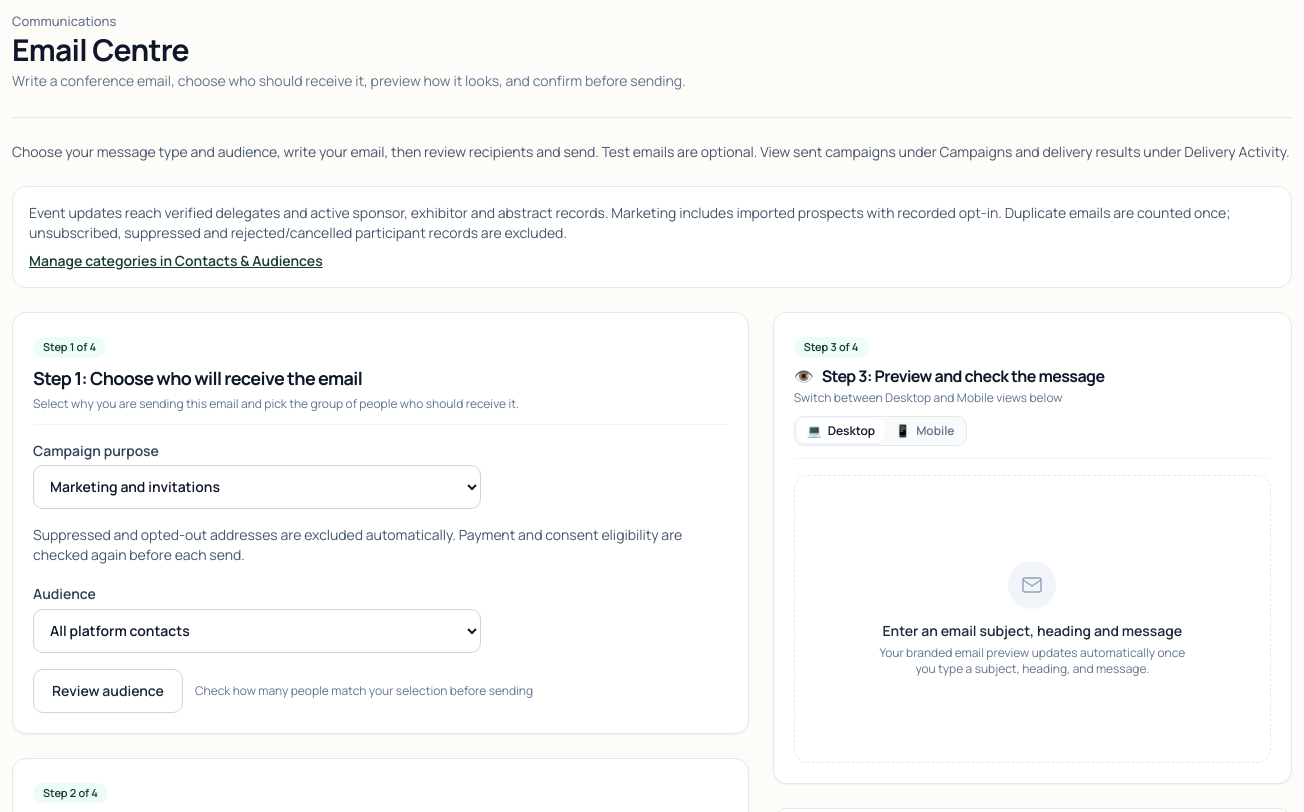
Communications Centre › restricts essential attendee updates to registered delegates and checks backend support
Select "Event update — existing conference participants" in the dropdown labelled "Campaign purpose" at (257,486), box [33,464,481,508]
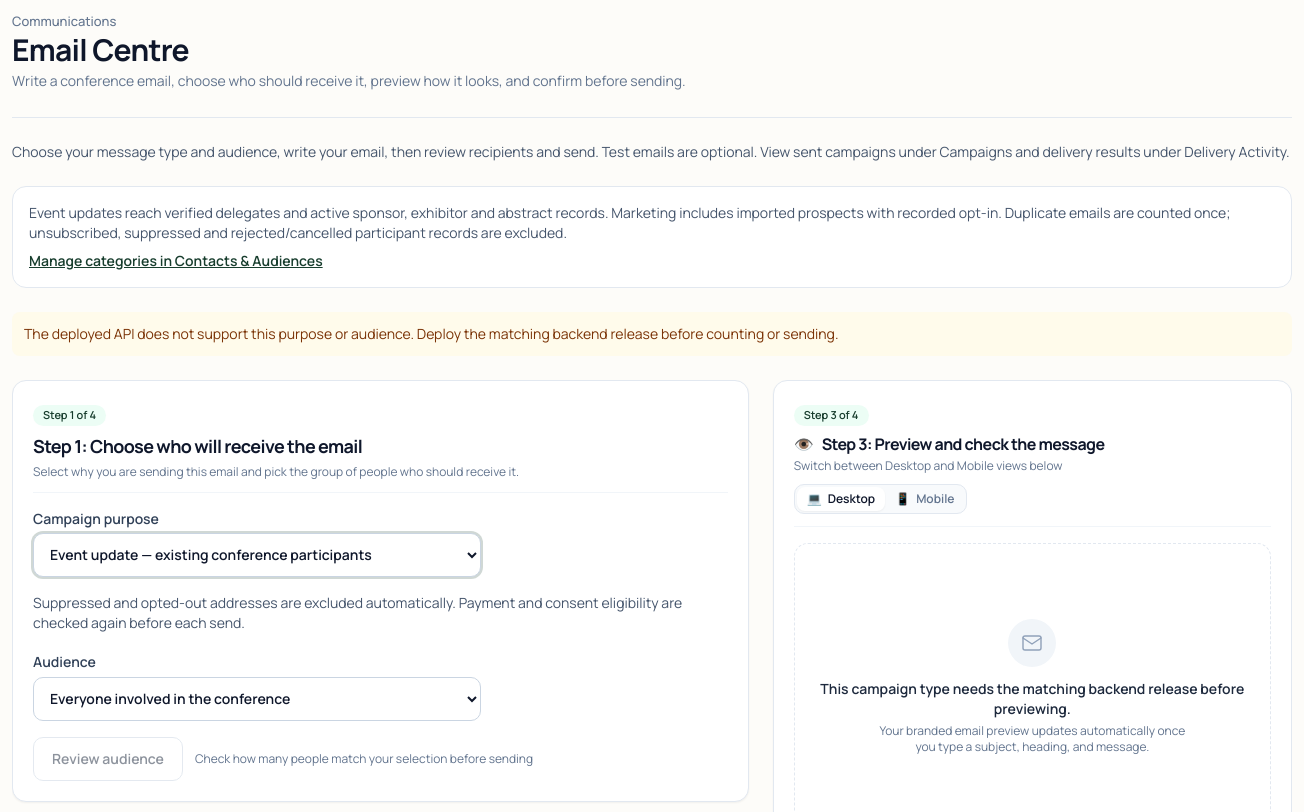
Check: the dropdown labelled "Audience" shows "Everyone involved in the conference", box [33,676,481,720]
Check: the button "Review audience" is disabled, box [33,736,183,780]
